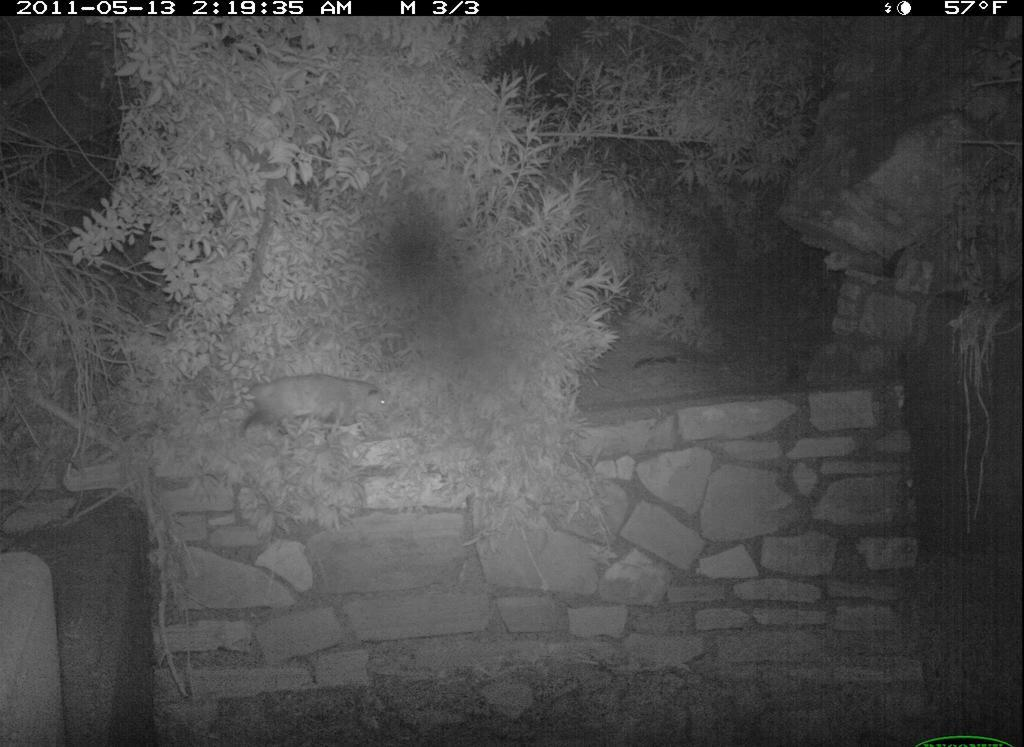opossum: (196, 364, 404, 447)
